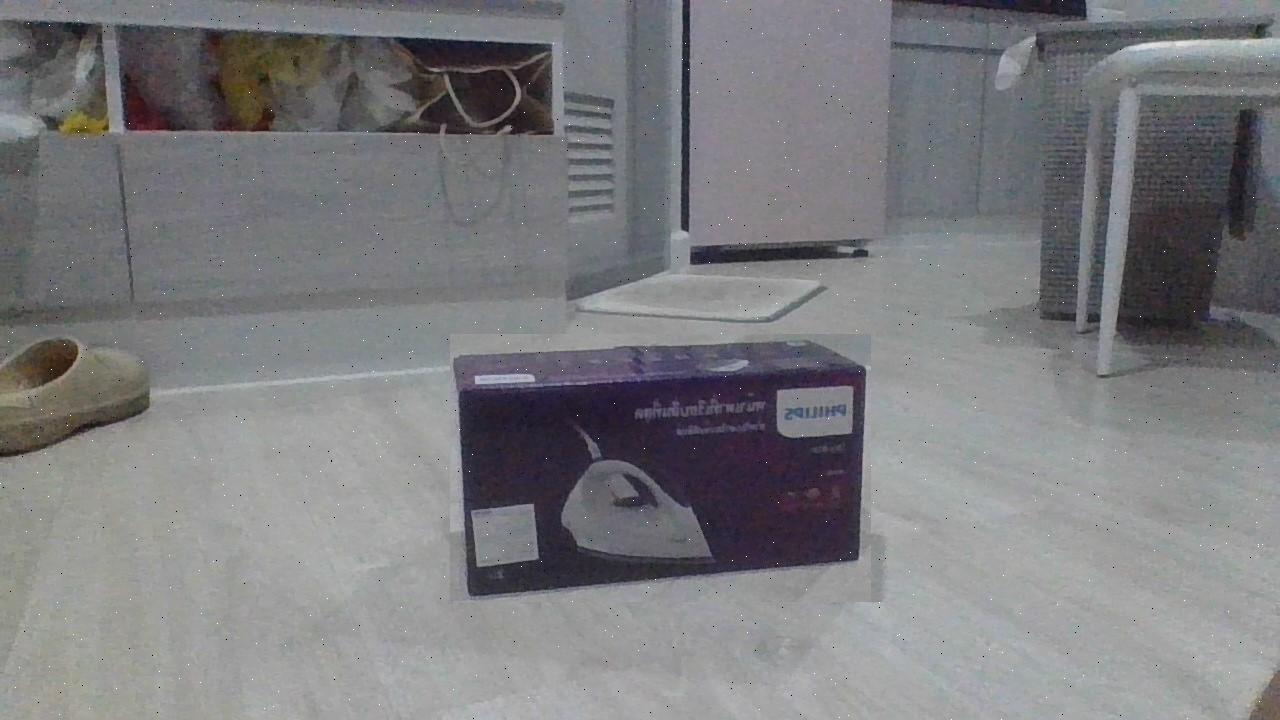IRON: (450, 334, 871, 602)
